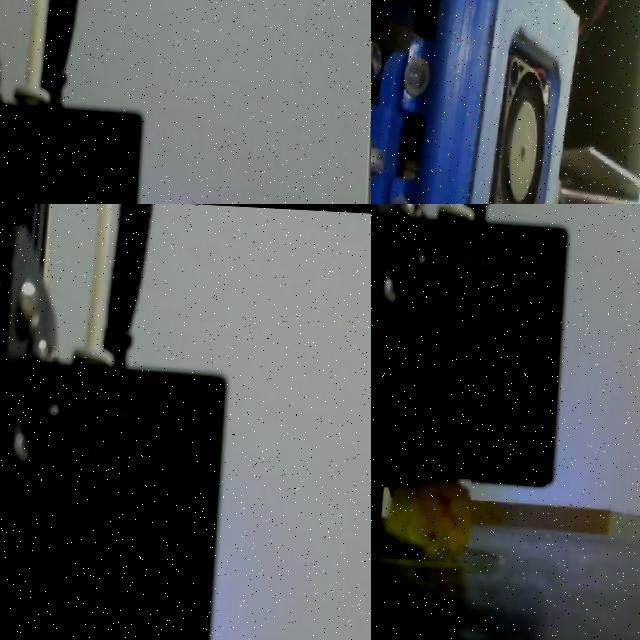spaghetti: (389, 477, 470, 557)
